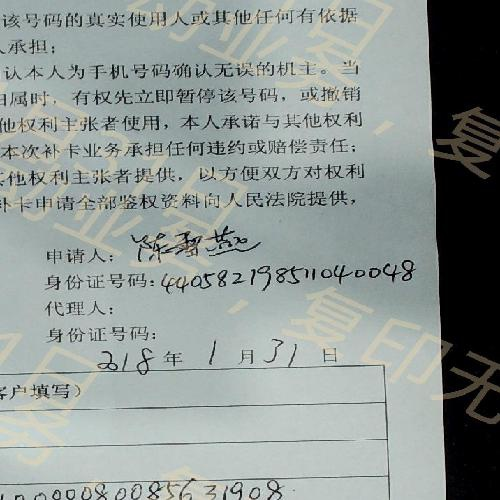sign3: (127, 225, 263, 265)
